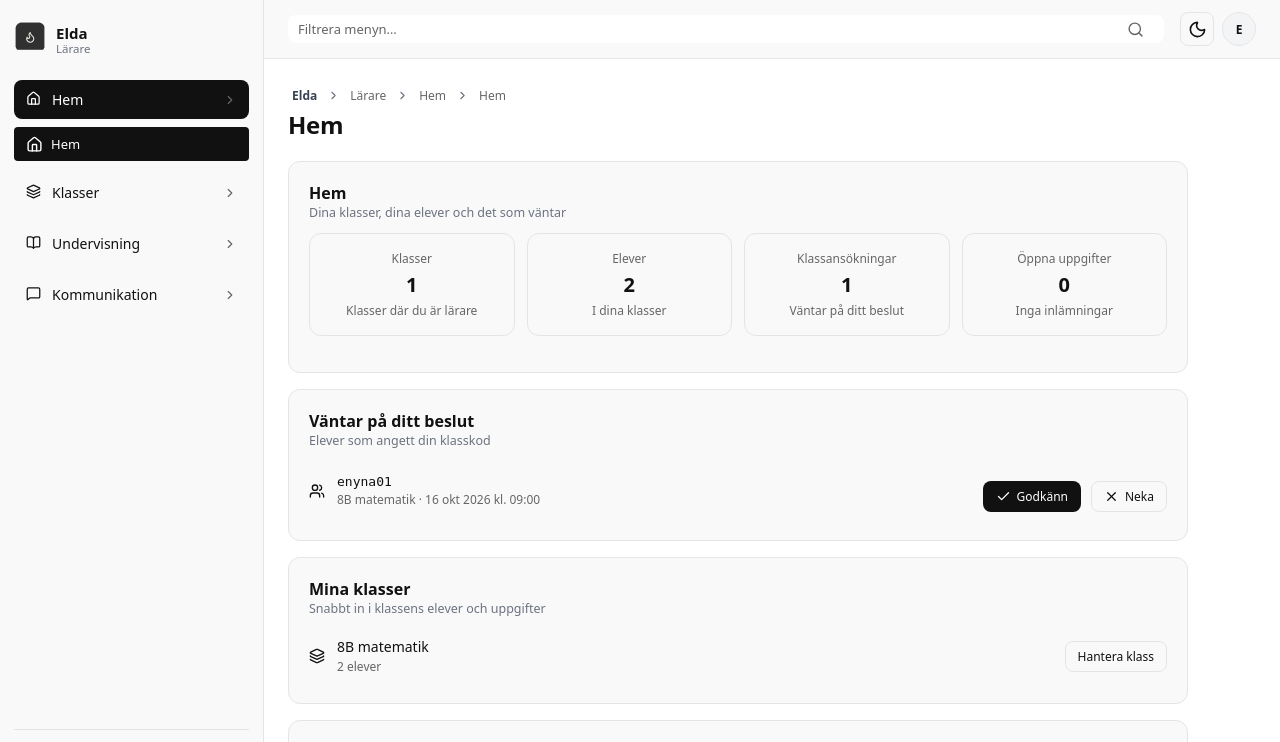
Scenario: uppdateringar i inställningarna › låter läraren söka efter uppdateringar från profilen
Click the button named "Konto och profil" at (1239, 29), box [1222,12,1256,46]
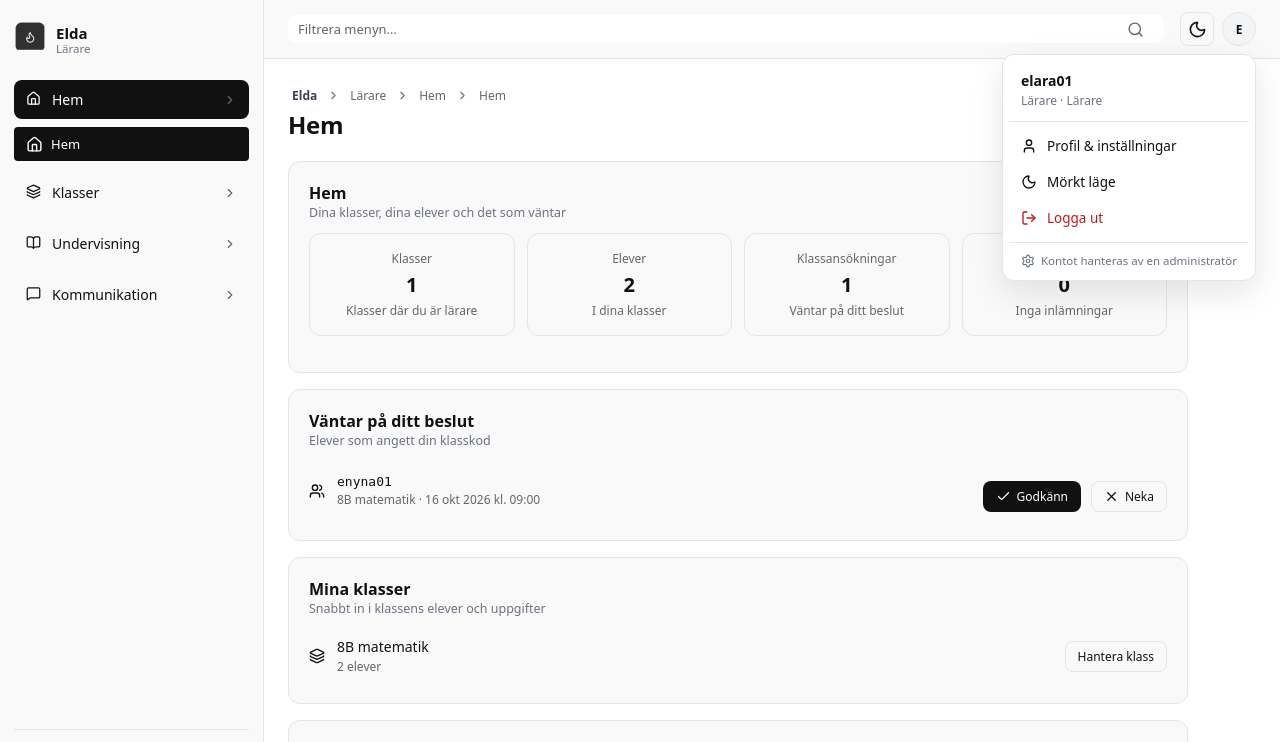
Click the menu item "Profil & inställningar" at (1129, 146), box [1009,128,1249,164]
(page scrolled)
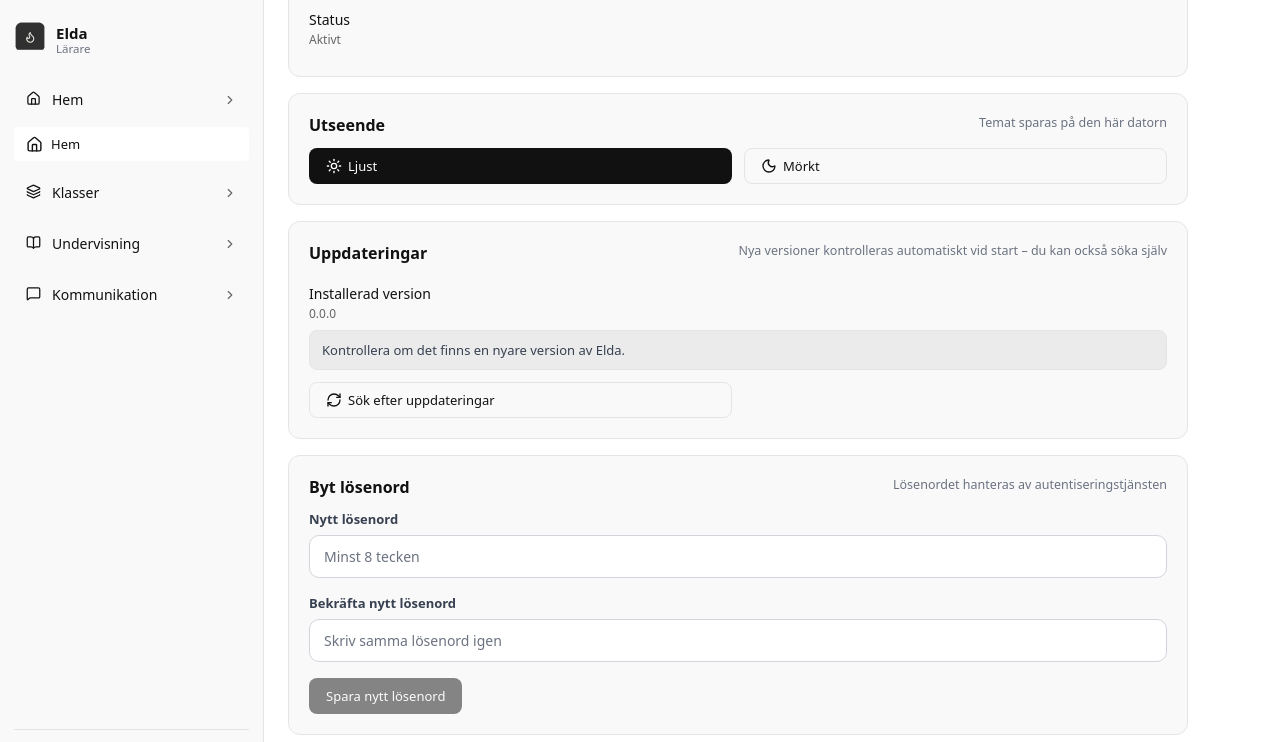
Result: the heading "Uppdateringar" is shown at [309,242,427,264]
Result: the button with test id "update-check" is shown at [309,382,732,418]
